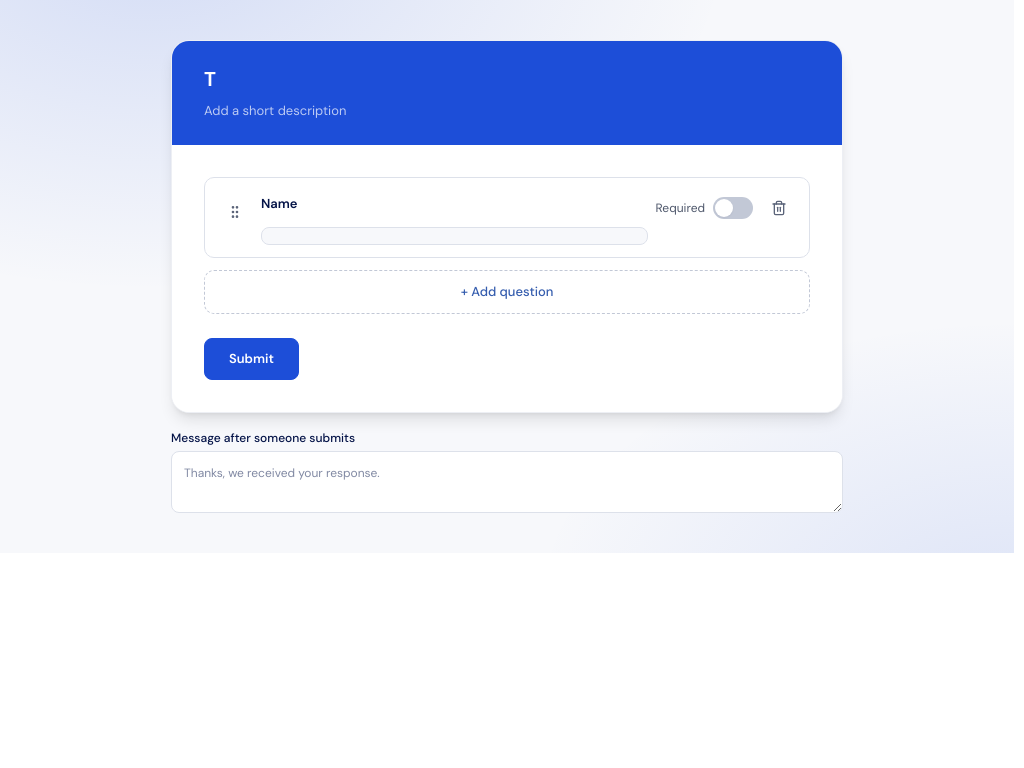
it: simple canvas › picking a type adds that question and closes the menu
Click the button "+ Add question".
click(507, 292)  # box left=204, top=270, right=810, bottom=314
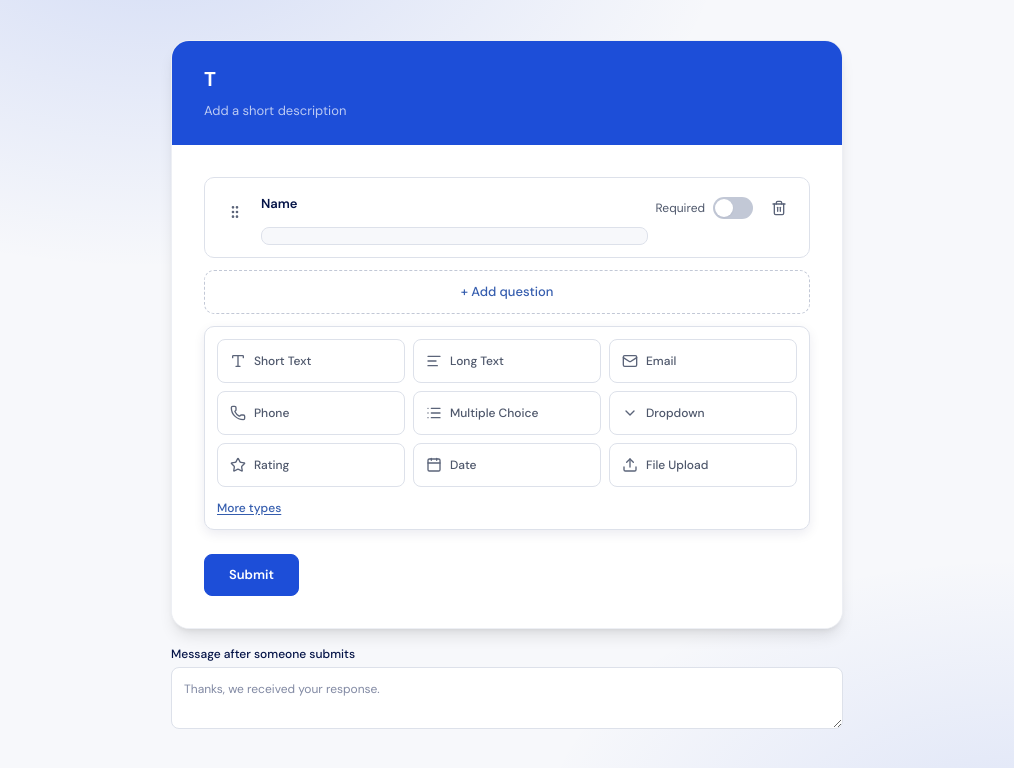
Click the button "Email".
click(703, 361)  # box left=609, top=339, right=797, bottom=383
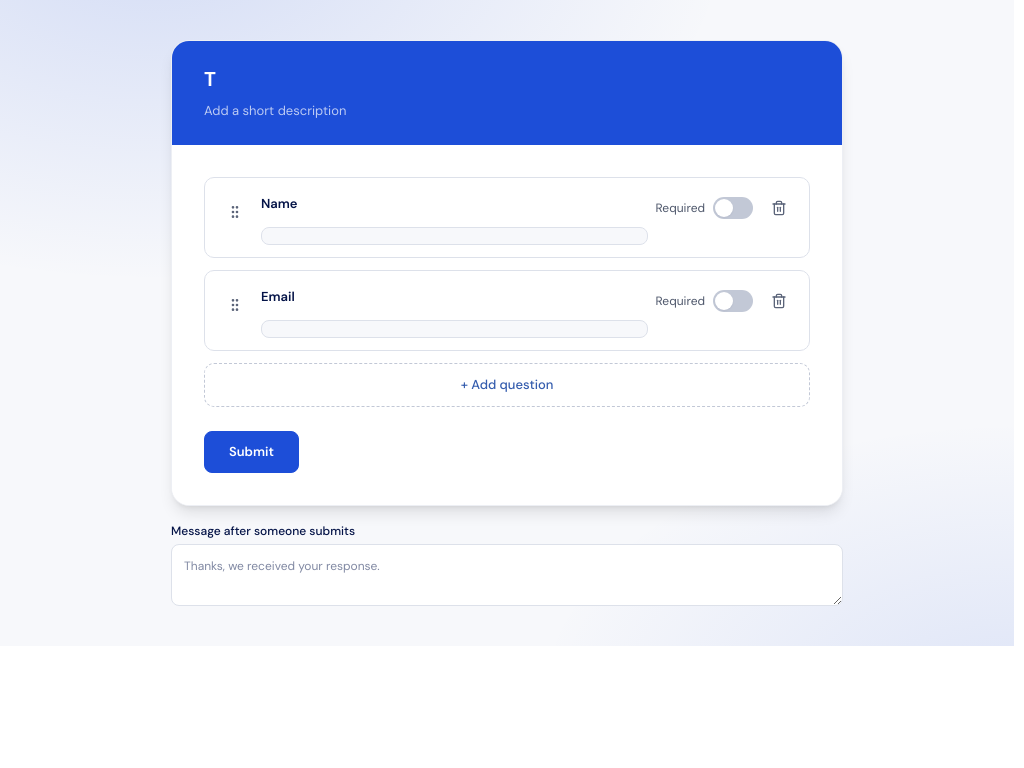
Now the button "Long Text" is gone
